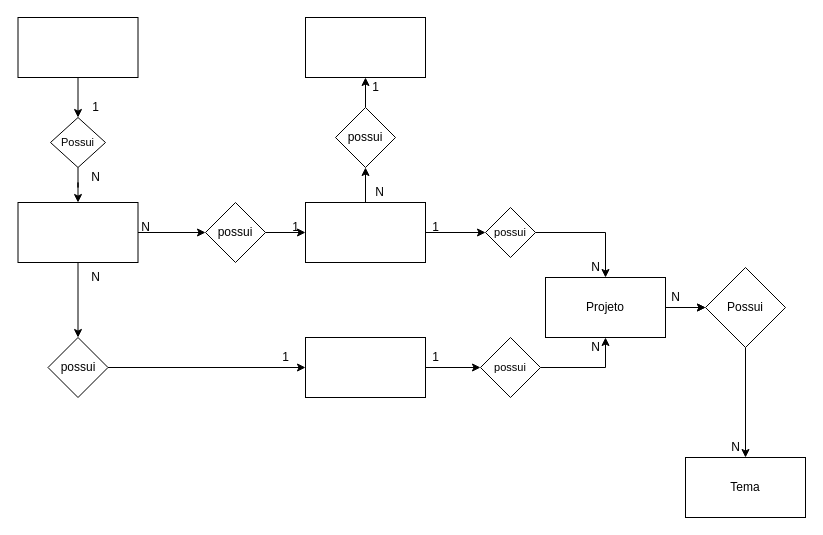
Some shapes in this 823 by 535 pixel diagram are drawn without their labels. The shapes that lost their labels are listed below. From the top down, each one's box as (x1, y1, x2, y2) in pixels, then its label:
(17, 16, 138, 78): TiposUsuário
(304, 16, 426, 78): Equipe
(17, 202, 138, 262): Usuário
(304, 202, 426, 262): Professor
(304, 336, 426, 398): Adm
